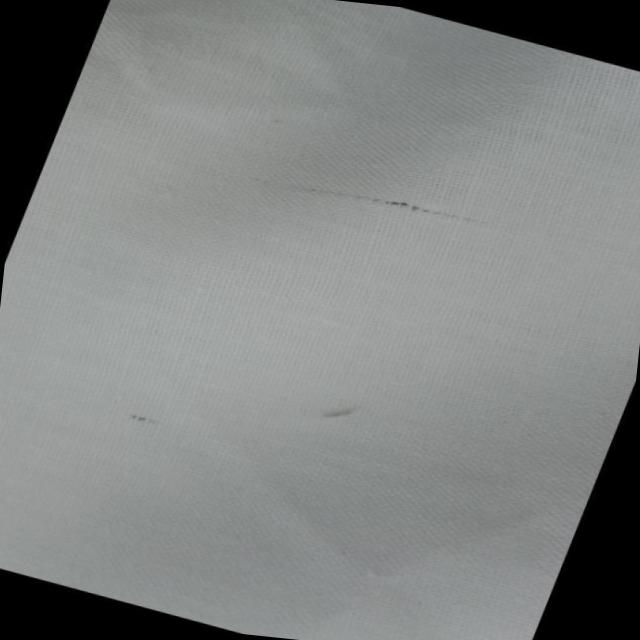contamination: (278, 161, 492, 244), (310, 386, 376, 435), (118, 406, 164, 431)
